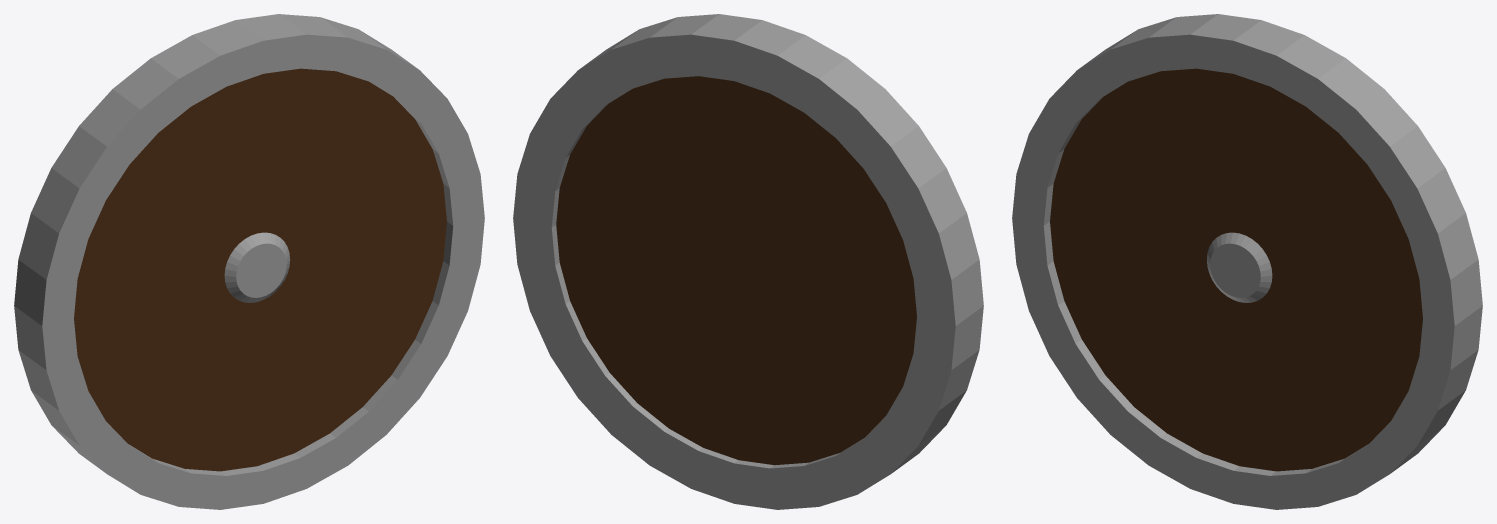
Rendered from Shield.fbx.
3 views of the same model, side by side, from view 1: azimuth 30°, elevation 25°; view 2: azimuth 150°, elevation 25°; view 3: azimuth 330°, elevation 25° (orthographic).
Parts seen in each view (by area): view 1: Cylinder.015; view 2: Cylinder.015; view 3: Cylinder.015.
Boxes of the visible parts, x1=… form: Cylinder.015: x1=14, y1=14, x2=484, y2=509; Cylinder.015: x1=513, y1=14, x2=983, y2=509; Cylinder.015: x1=1012, y1=14, x2=1482, y2=509.
Bounding box in the file's own units: 50.58 × 50.58 × 5.58.
